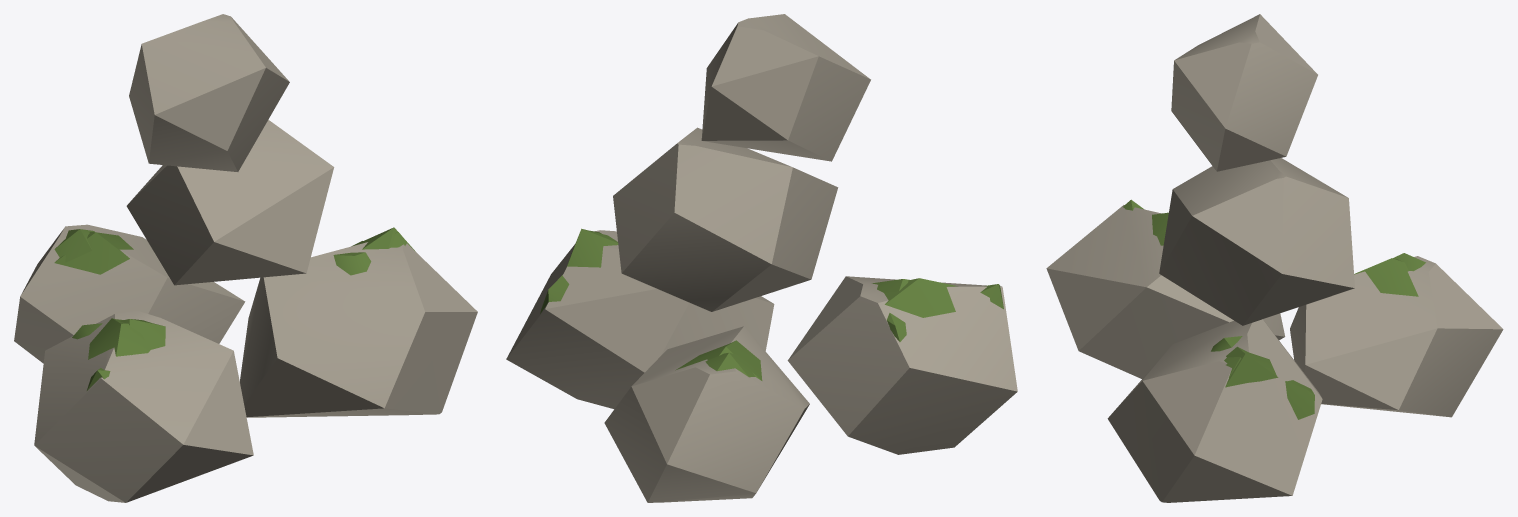
Rendered from rock-3.glb.
3 views of the same model, side by side, from view 1: azimuth 30°, elevation 25°; view 2: azimuth 150°, elevation 25°; view 3: azimuth 270°, elevation 25° (orthographic). The views are drawn at different scales.
Parts seen in each view (by area): view 1: rock-3; view 2: rock-3; view 3: rock-3.
Boxes of the visible parts, left/top/right/bottom form: rock-3: left=14, top=14, right=477, bottom=502; rock-3: left=506, top=14, right=1017, bottom=502; rock-3: left=1046, top=14, right=1503, bottom=502.
Bounding box in the file's own units: 1.45 × 1.23 × 1.33.
